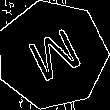M_SE: (20, 22, 85, 88)
